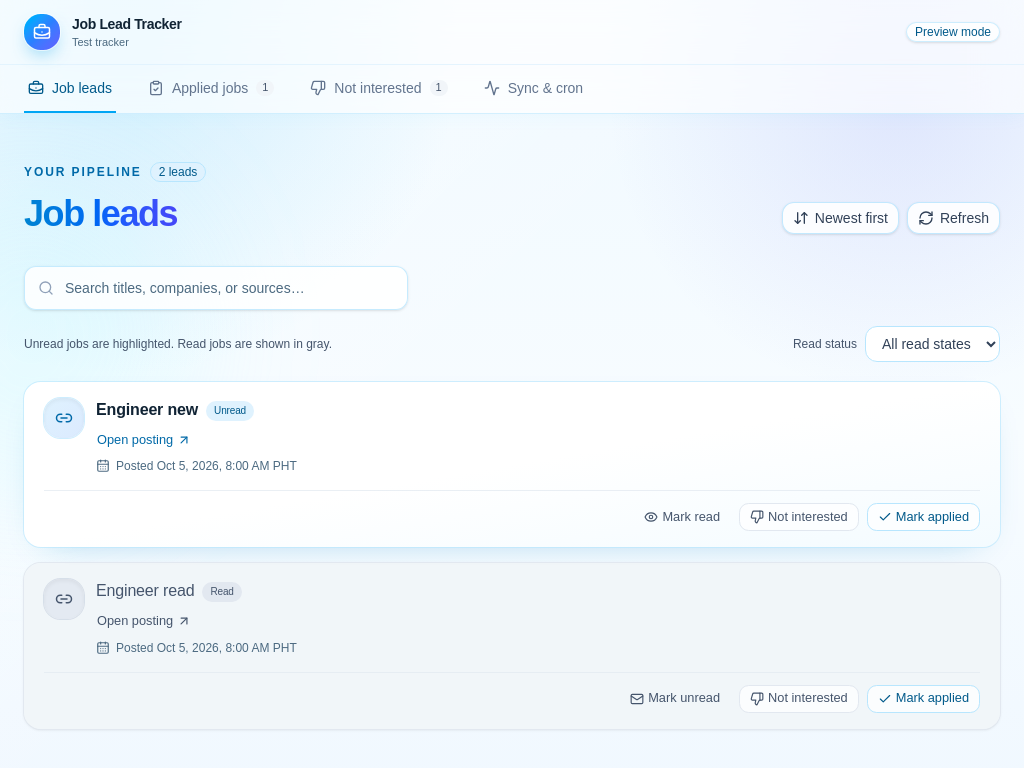
Test: DashboardView job tracking › adds an Applied jobs navigation page with only applied leads
Expected: the element "Engineer applied" is not shown
Expected: the icon "2 leads" is shown, [150,162,206,182]
Click the link "Applied jobs 1" at point(211, 88), box [148,80,274,96]
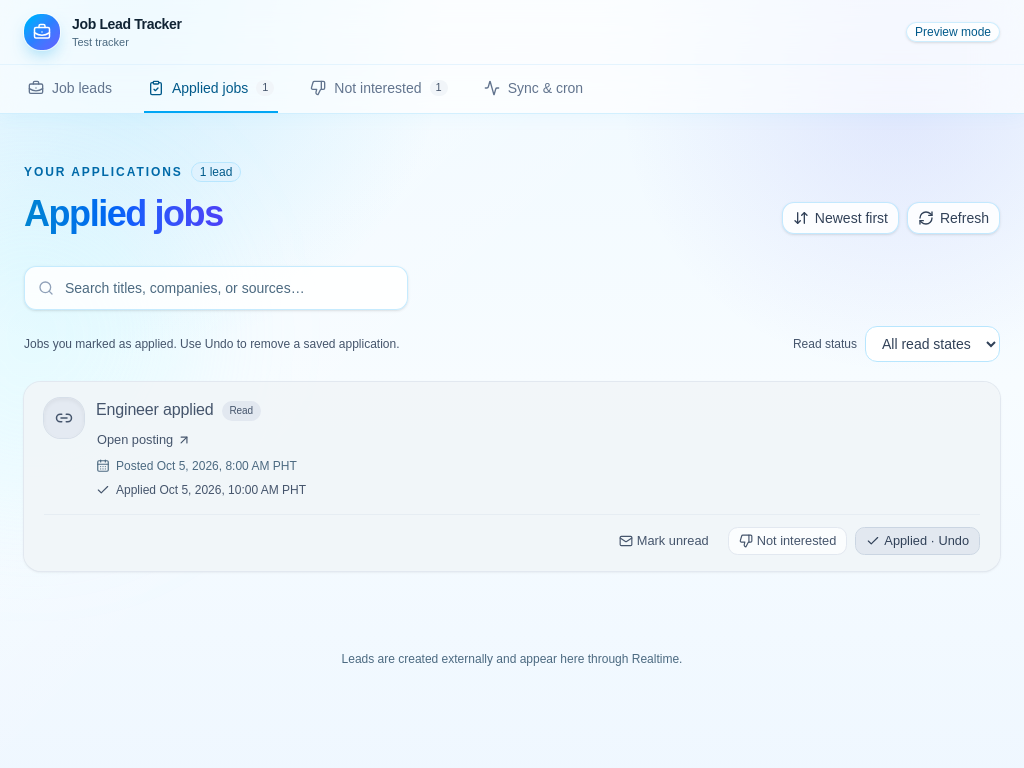
Expected: the heading "Applied jobs" is shown, [24,194,241,234]
Expected: the element "Engineer applied" is shown, [24,382,1000,571]
Click the link "Sync & cron" at point(533, 88), box [484,80,583,96]
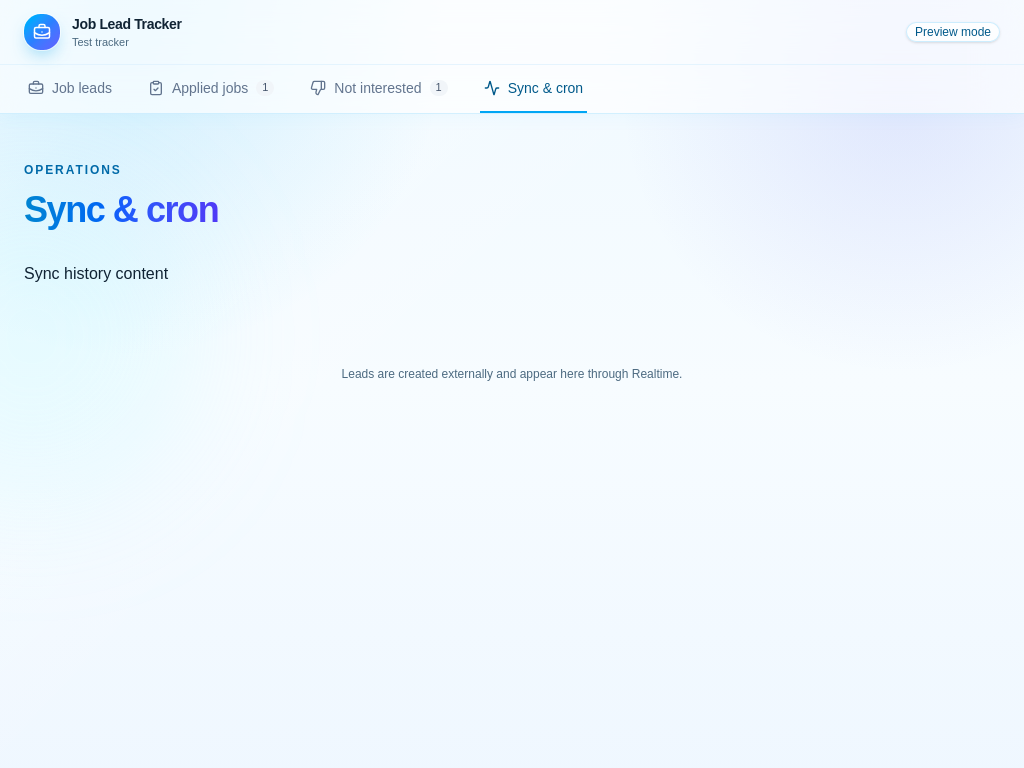
Expected: the text "Sync history content" is shown, [24,265,168,282]
